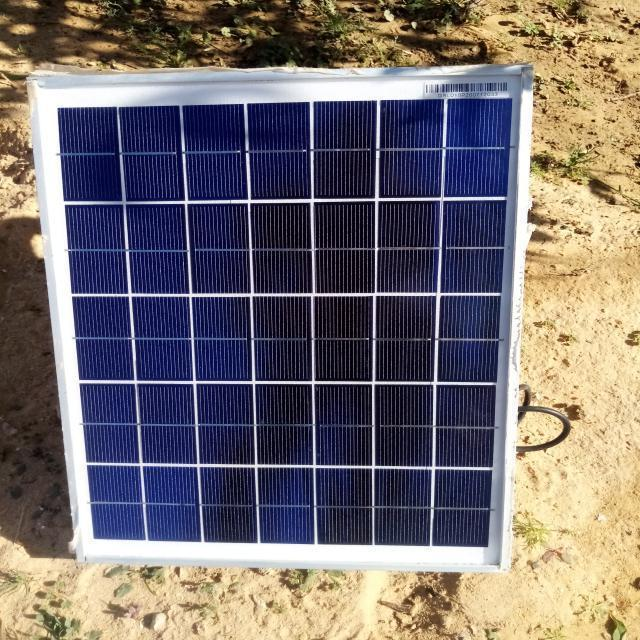Normal Solar Panel: (31, 68, 533, 568)
